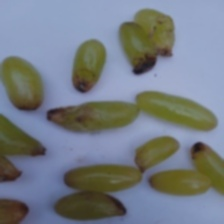grapes: (47, 28, 190, 165)
